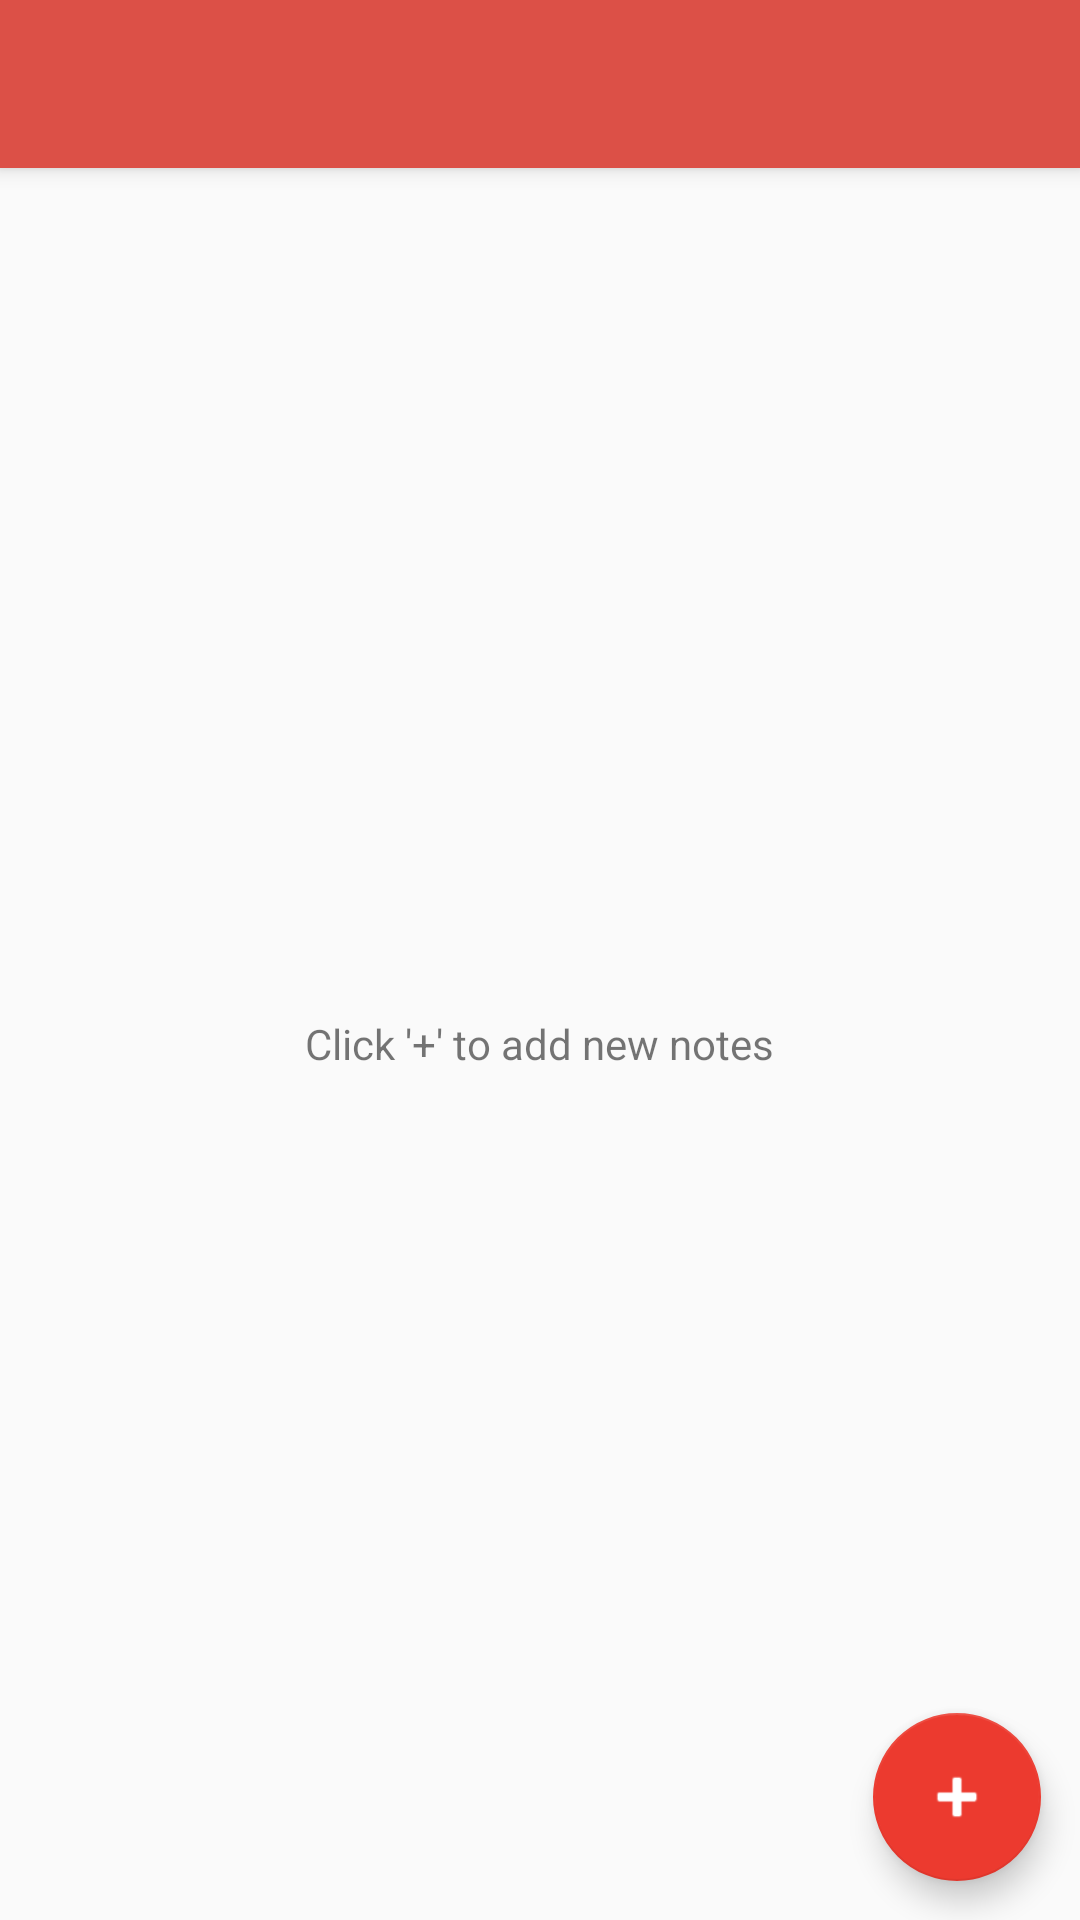

Where icons sit on this 1080px x 1920px app screen, as region(x1, y1, x2, y2):
add: region(873, 1713, 1041, 1881)
